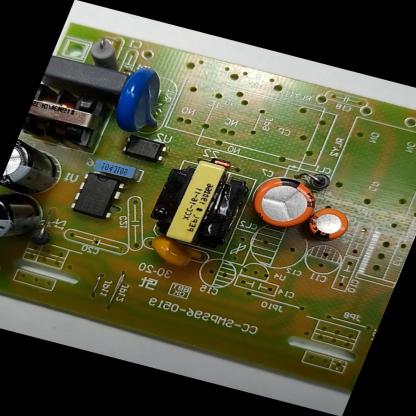Cap1: (242, 168, 326, 235)
Cap2: (300, 199, 360, 245)
Cap3: (0, 136, 73, 203)
Cap4: (0, 186, 53, 257)
MOSFET: (61, 166, 133, 226)
Mov: (105, 61, 181, 139)
Resistor: (79, 33, 132, 73)
Transformer: (142, 152, 260, 257), (20, 81, 115, 153)
